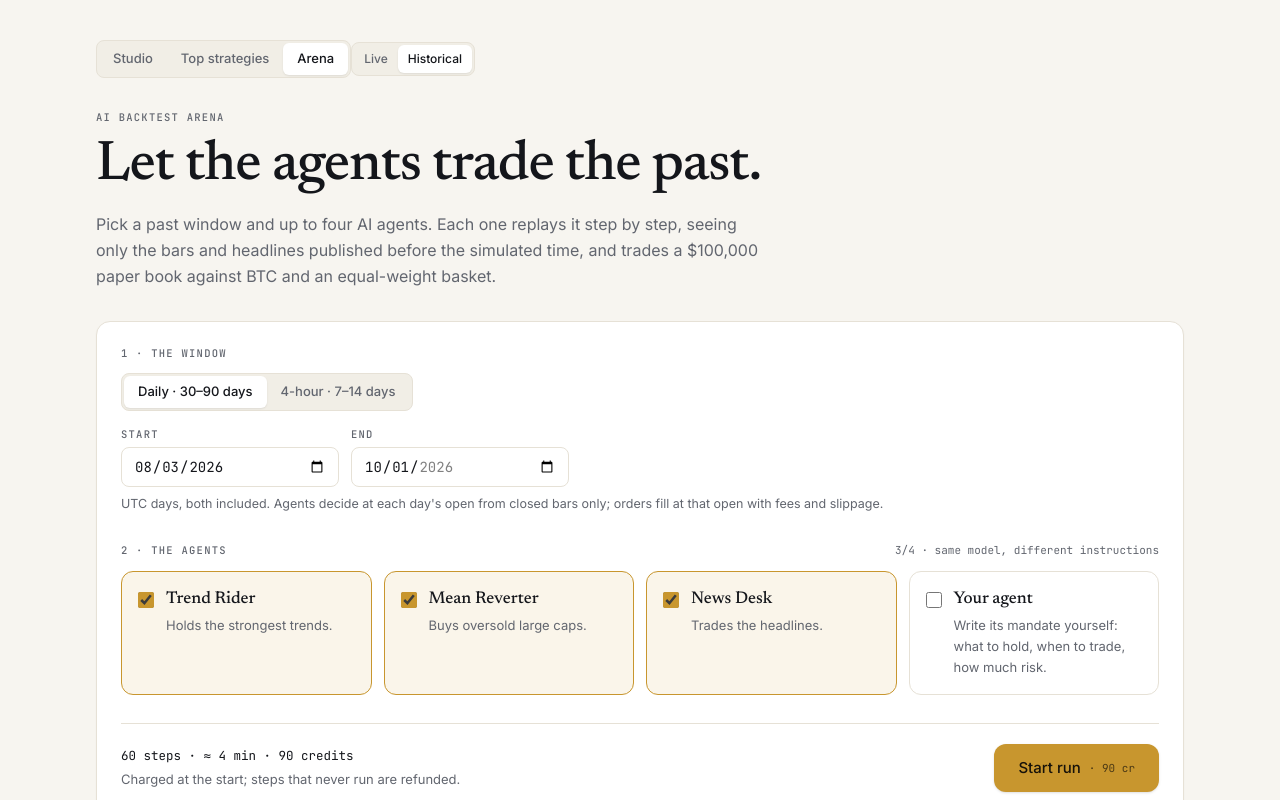
Test: Arena setup › defaults to the daily window with the built-in agents and prices it live
Expected: the date field labelled "Start" holds "2026-08-03", [121, 447, 339, 487]
Expected: the date field labelled "End" holds "2026-10-01", [351, 447, 569, 487]
Click the checkbox labelled "Mean Reverter Buys oversold large caps.".
click(408, 600)  # box [400, 592, 416, 608]
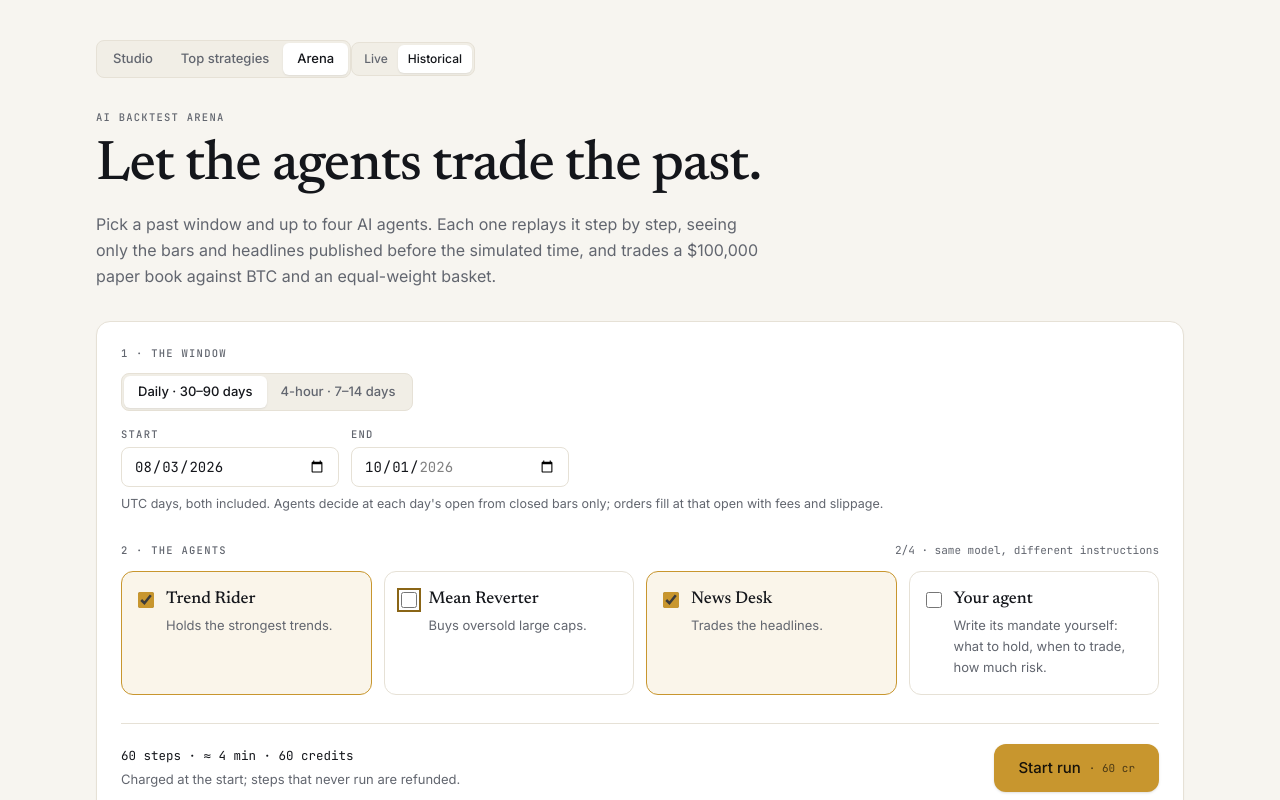
Now the text "60 steps · ≈ 4 min · 60 credits" is shown, box [121, 747, 354, 764]
Click the button "4-hour · 7–14 days".
click(338, 392)  # box [266, 376, 410, 408]
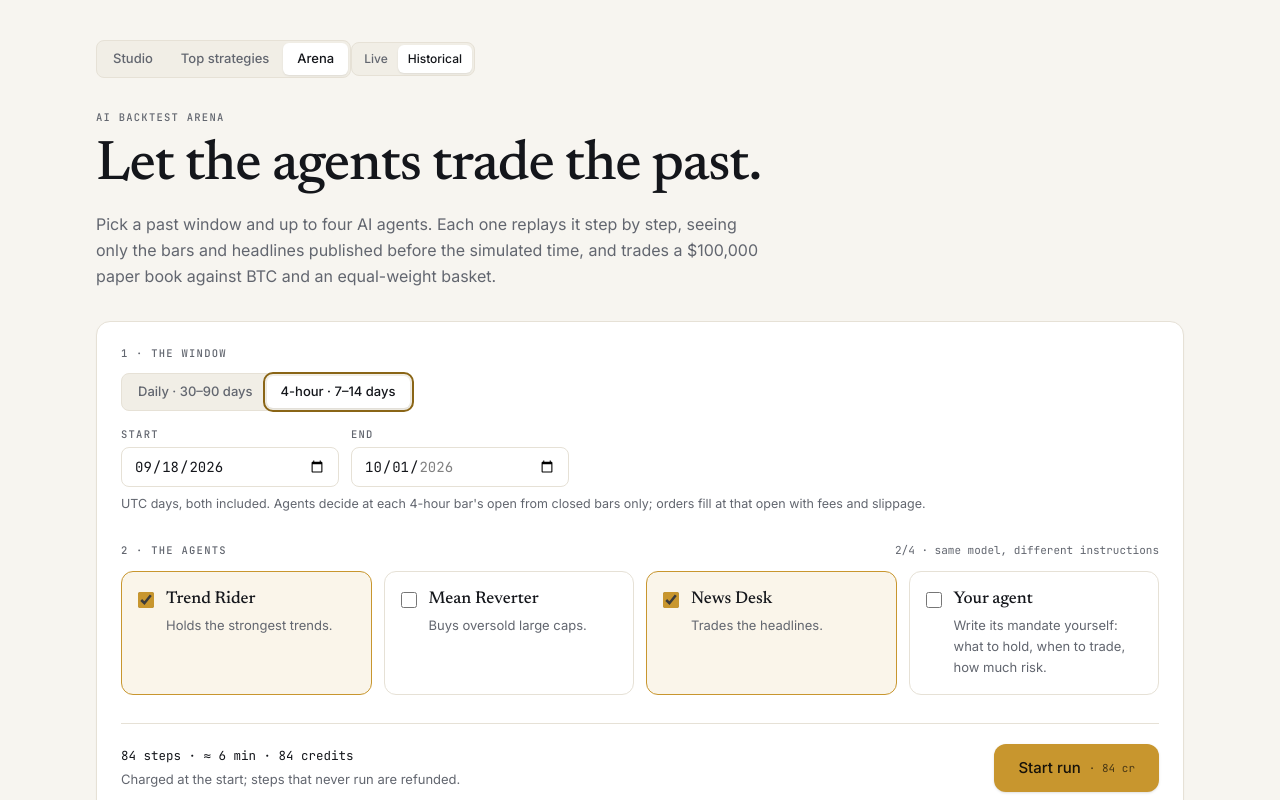
Now the date field labelled "Start" holds "2026-09-18", box [121, 447, 339, 487]
Now the text "84 steps · ≈ 6 min · 84 credits" is shown, box [121, 747, 354, 764]
